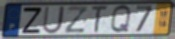7: (134, 4, 154, 33)
Q: (110, 4, 133, 35)
T: (90, 4, 109, 35)
U: (41, 5, 67, 35)
Z: (64, 6, 89, 35), (21, 6, 43, 34)
